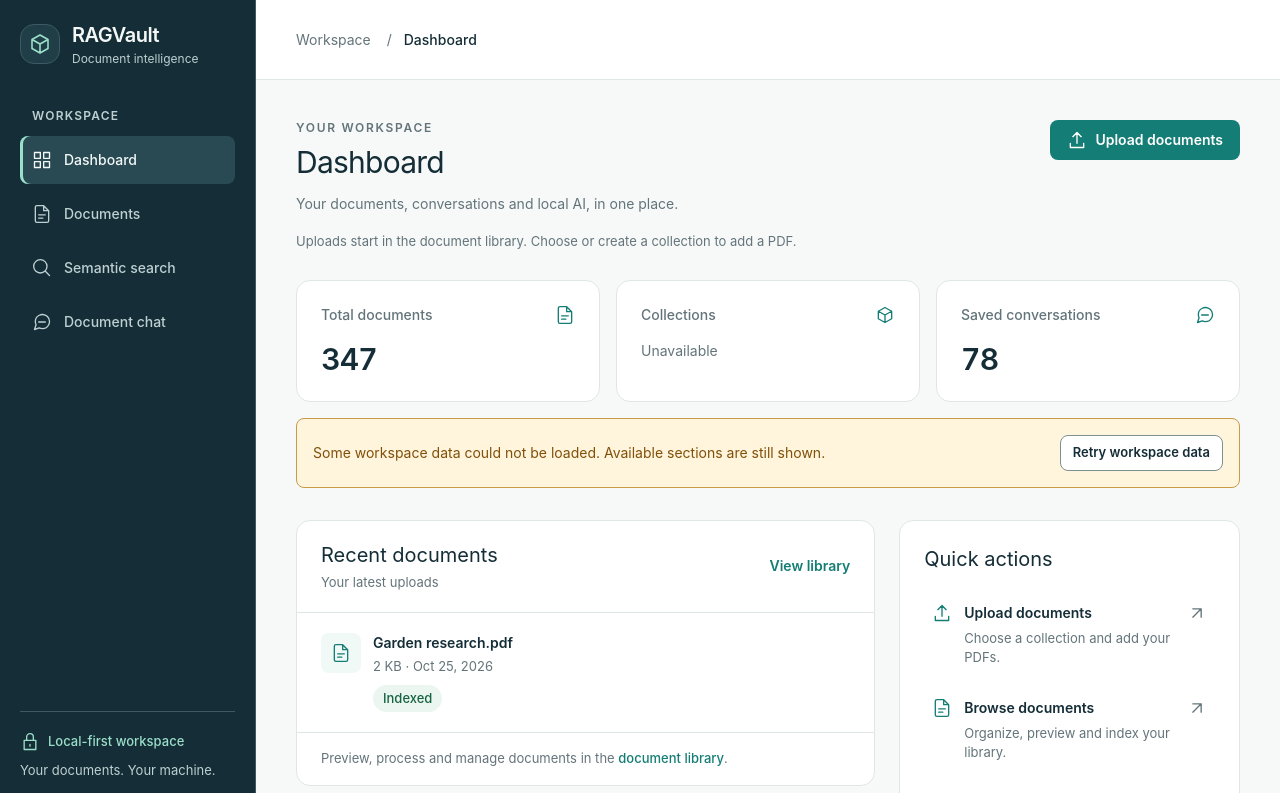
Test: real workspace dashboard › isolates partial API failures and never substitutes an error with zero
Expected: the text "Unavailable" is shown, [641, 342, 718, 358]
Expected: the text "347" is shown, [321, 340, 377, 376]
Click the button "Retry workspace data" at point(1141, 452), box [1060, 434, 1223, 470]
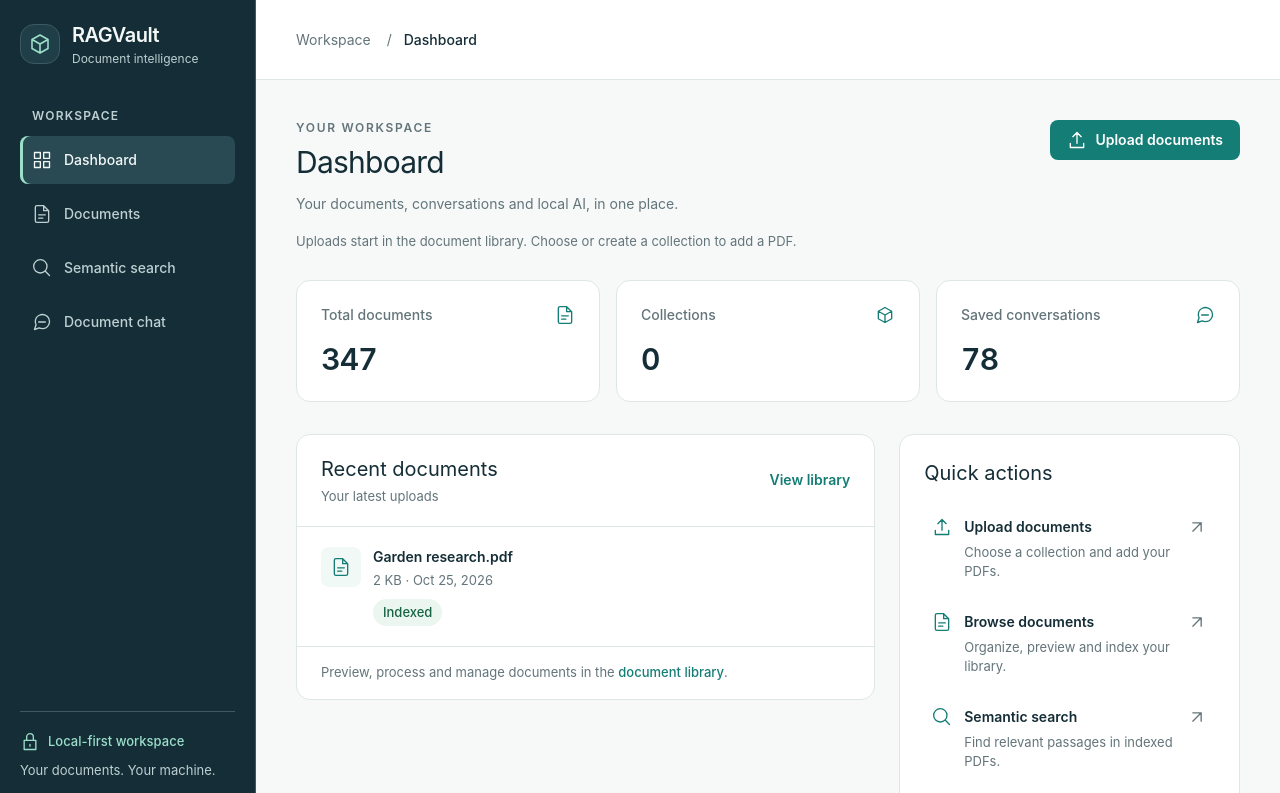
Result: the text "0" is shown at [641, 340, 660, 376]
Result: the button "Retry workspace data" is gone
